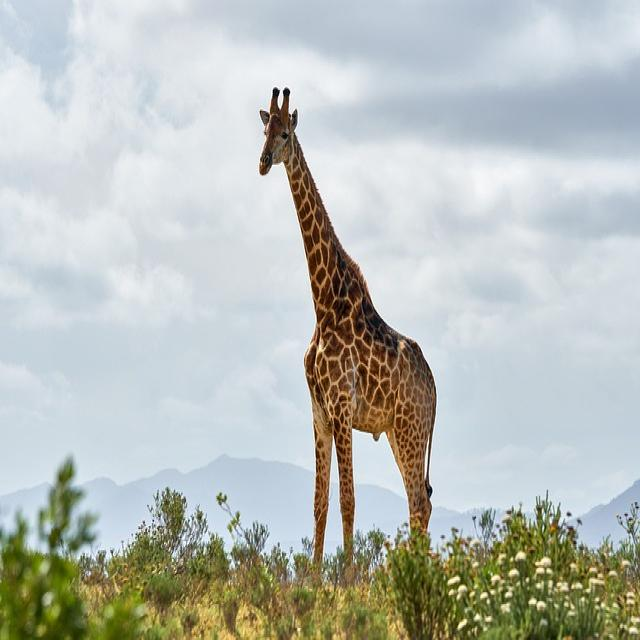Herbivorous: (257, 90, 437, 567)
